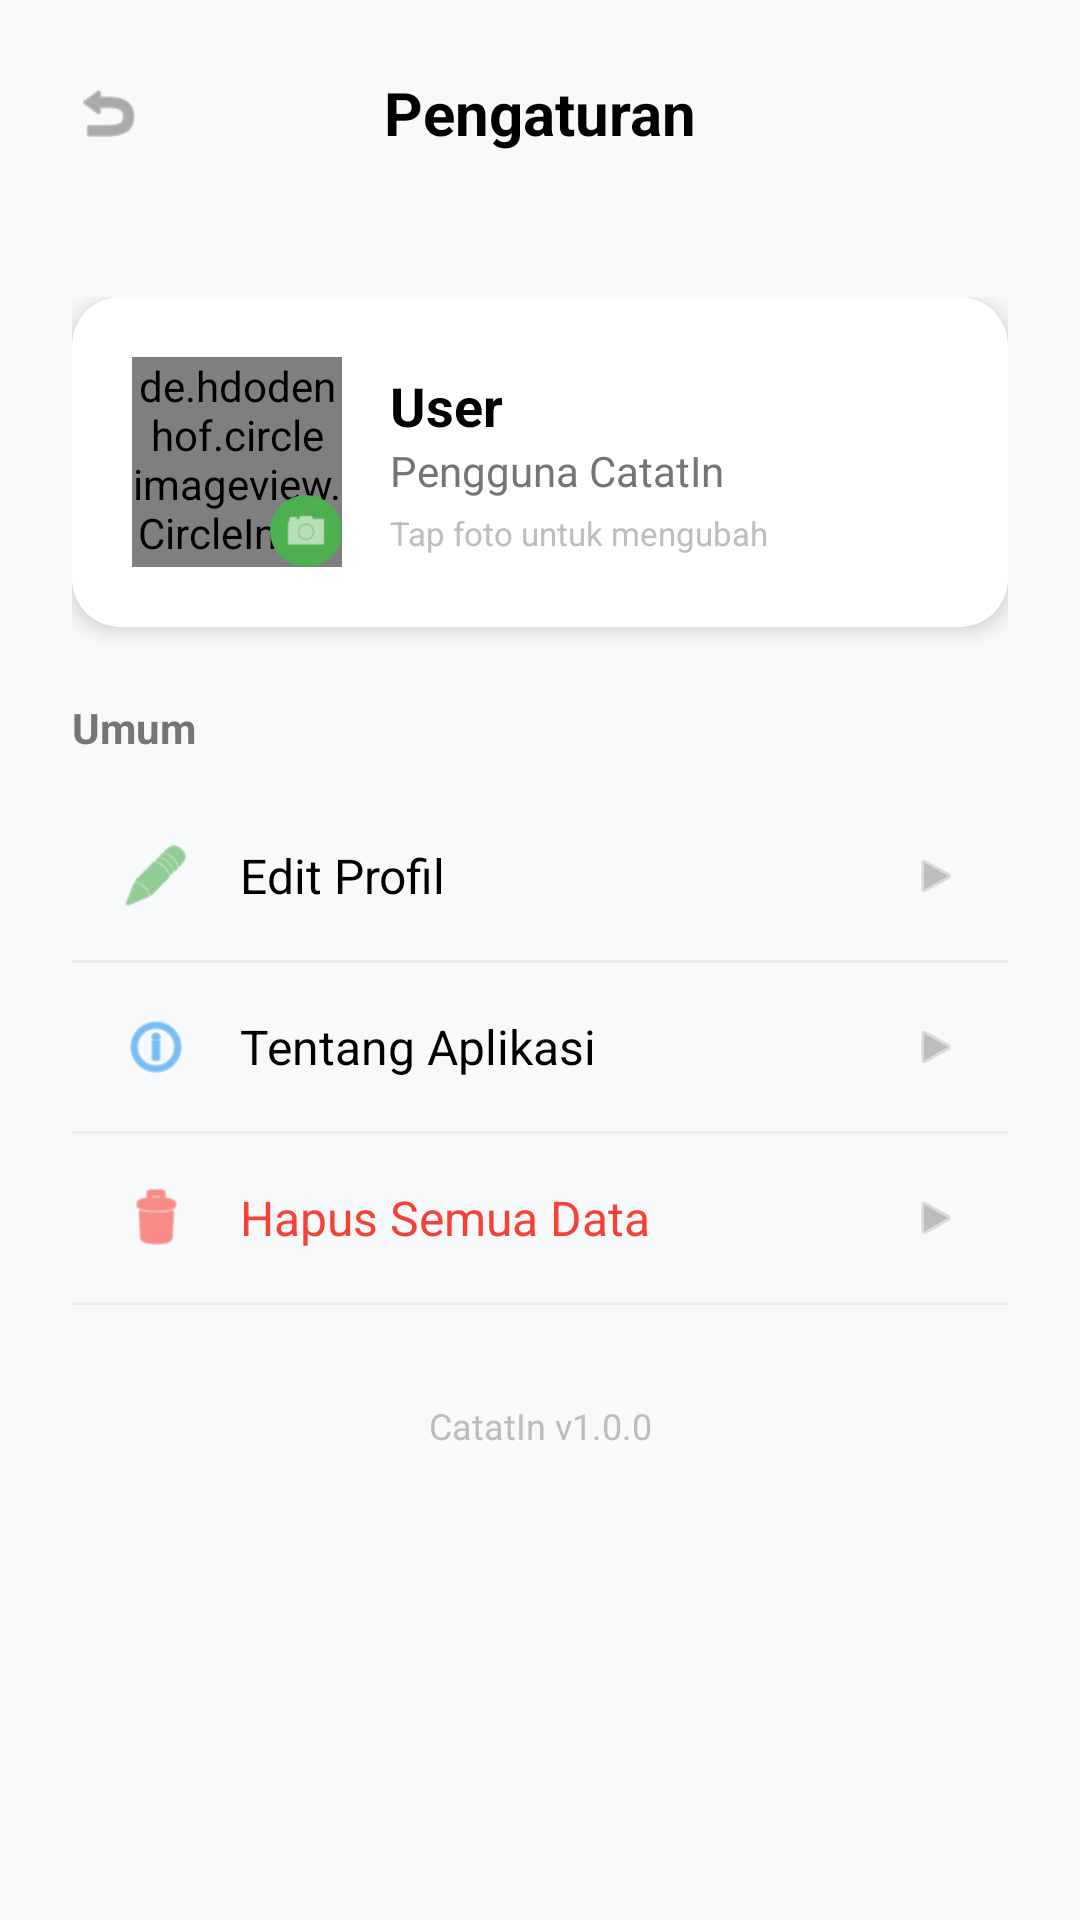

Screen size 1080 × 1920. Icon name, then its box in pixels as (x1, y1, x2, y2):
delete: (136, 1189, 177, 1245)
info details: (130, 1021, 182, 1073)
play: (922, 860, 950, 892), (922, 1031, 950, 1063), (922, 1202, 950, 1234)
revert: (83, 90, 135, 137)
